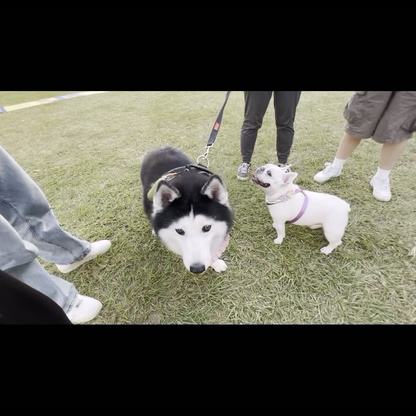bulldog: (246, 153, 356, 262)
husky: (135, 144, 237, 285)
